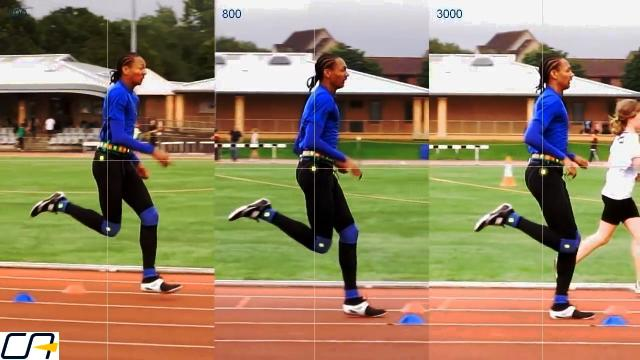berlari: (228, 42, 388, 318), (29, 40, 189, 300), (467, 45, 601, 322)
